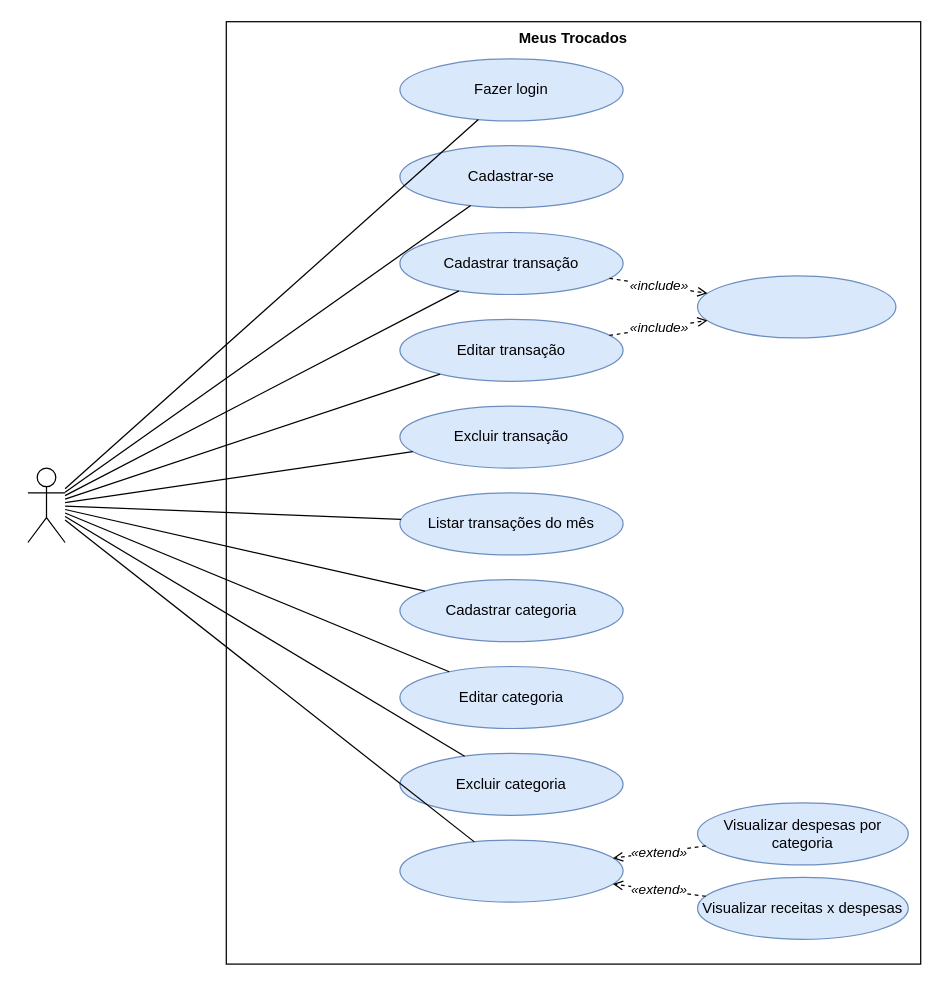
Image size: 942x986. Some labels were removed from this diagram. The shapes that lost their labels are listed below. From the top down, each one's box as (x1, y1, x2, y2) in pixels, then its label:
(696, 275, 896, 338): Selecionar categoria
(27, 467, 65, 542): Usuário
(399, 839, 623, 902): Visualizar dashboard mensal
